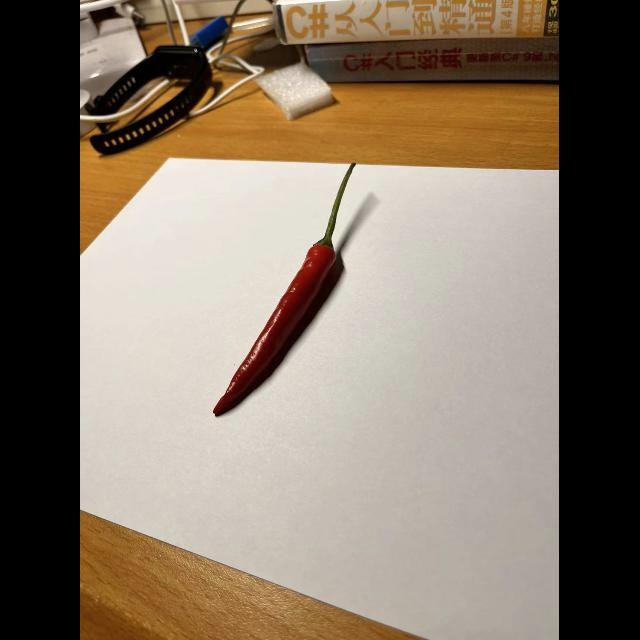chili_pepper: (213, 165, 364, 417)
